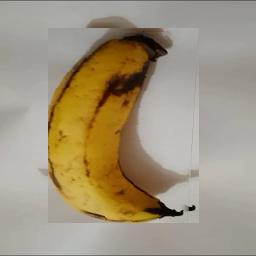Banana Semifresh: (49, 28, 200, 223)
